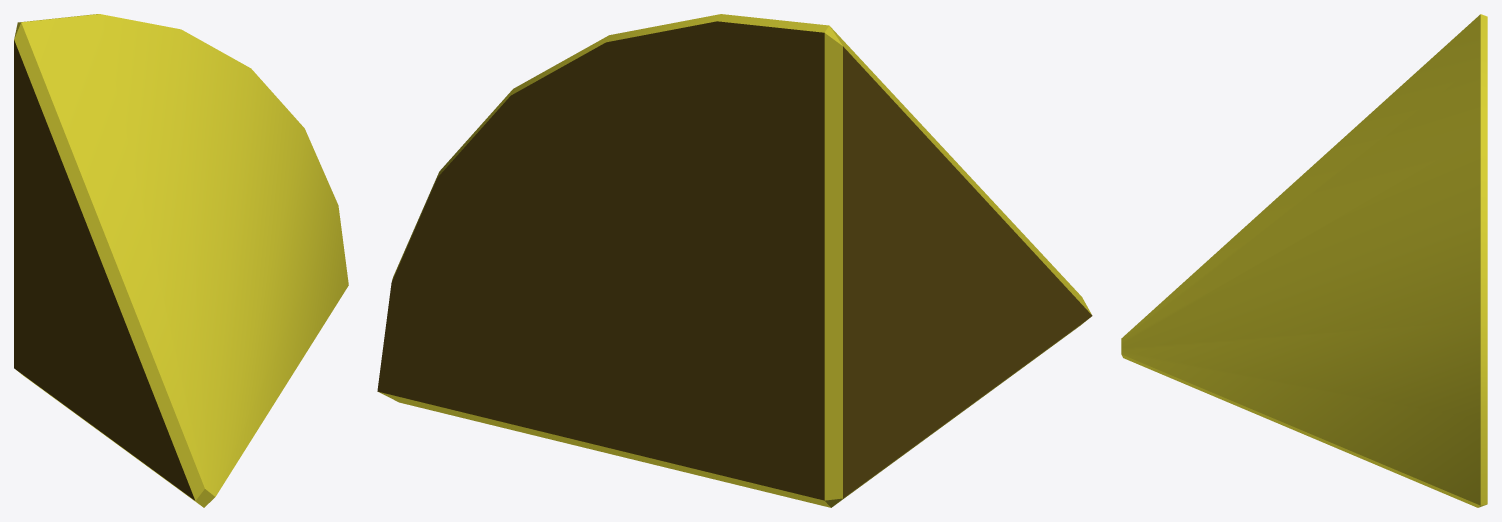
The model's file is PokatPiramid.fbx.
3 views of the same model, side by side, from view 1: azimuth 30°, elevation 25°; view 2: azimuth 150°, elevation 25°; view 3: azimuth 270°, elevation 25° (orthographic). The views are drawn at different scales.
Visible parts, largest first — view 1: Cube.001; view 2: Cube.001; view 3: Cube.001.
Boxes of the visible parts, x1,y1,x2,y2 form: Cube.001: (14, 14, 348, 507); Cube.001: (377, 14, 1092, 507); Cube.001: (1121, 14, 1487, 507).
Bounding box in the file's own units: 1.96 × 1.96 × 1.89.
